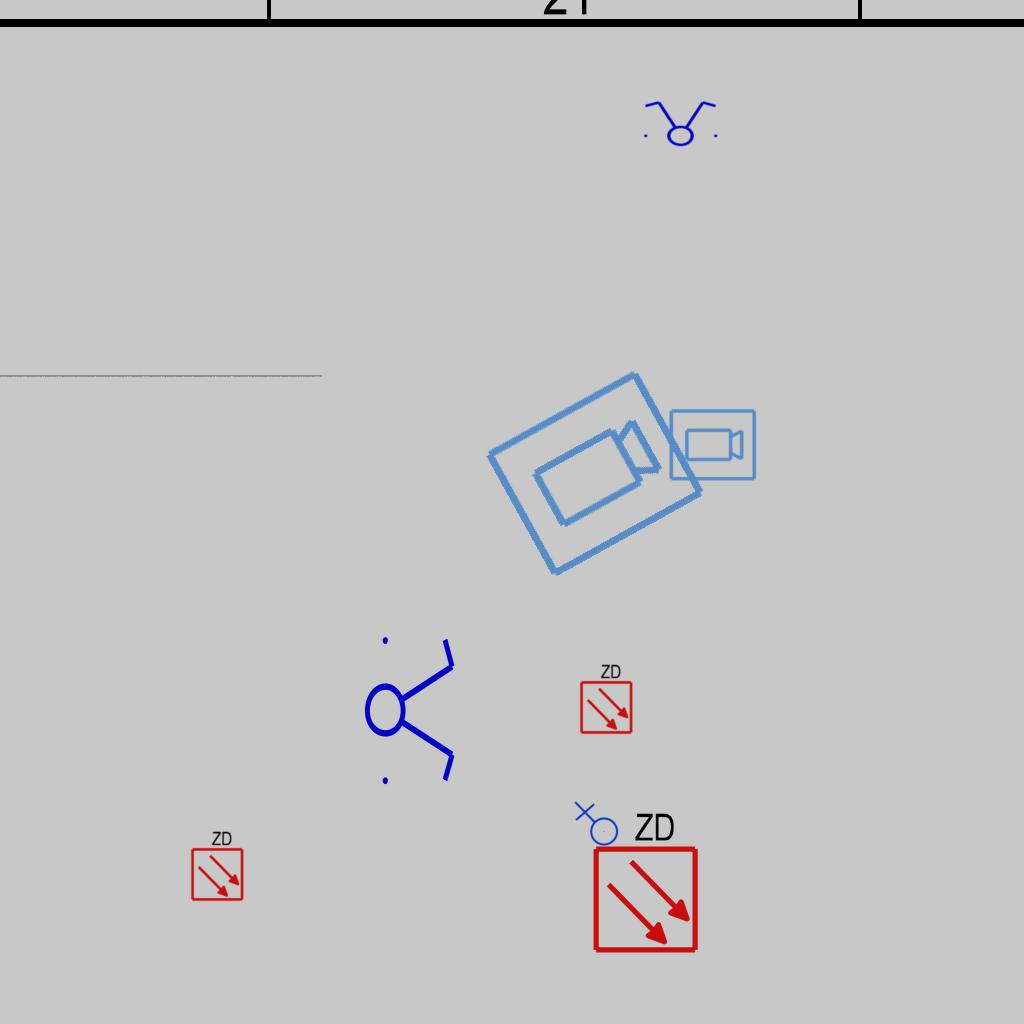Elektroanschluss_allgemein_230V_Geraeteanschlussdose_230V: (572, 801, 619, 850)
KFO_Kamera_mit_Festobjektiv: (478, 363, 712, 587), (667, 407, 758, 484)
Serienschalter: (363, 625, 459, 793), (638, 99, 722, 147)
ZD_Melder_in_Zwischendecke_mit_Revisionsoeffnung_mind_40_x_40_cm: (587, 806, 701, 955), (188, 828, 245, 902), (577, 661, 634, 735)
